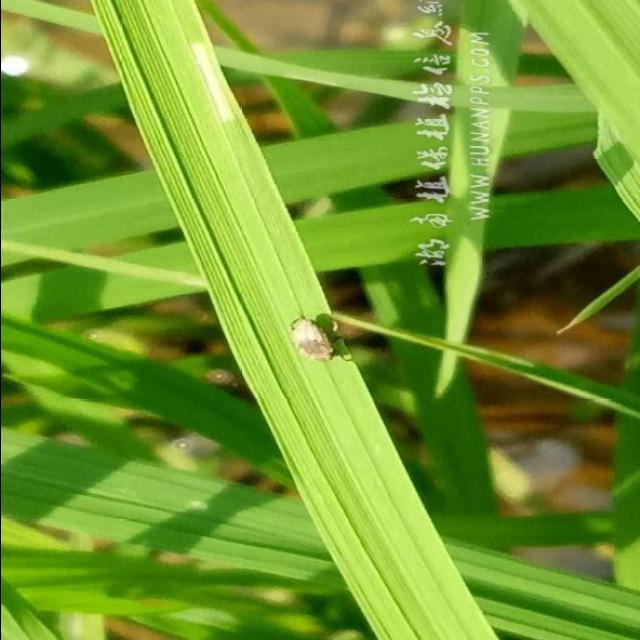ricebug: (289, 315, 350, 361)
